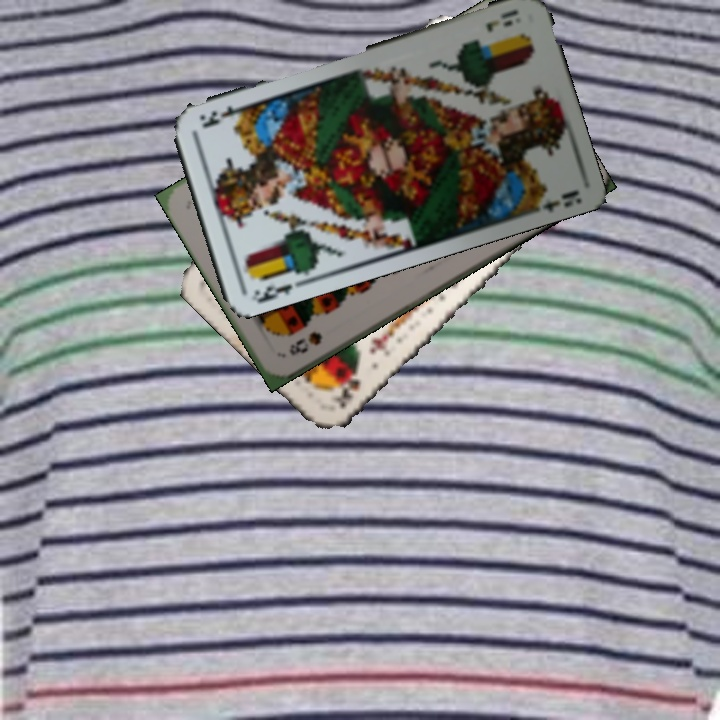EK: (247, 280, 295, 306), (482, 5, 522, 35)
S8: (285, 327, 325, 359)
SK: (329, 365, 364, 412)
